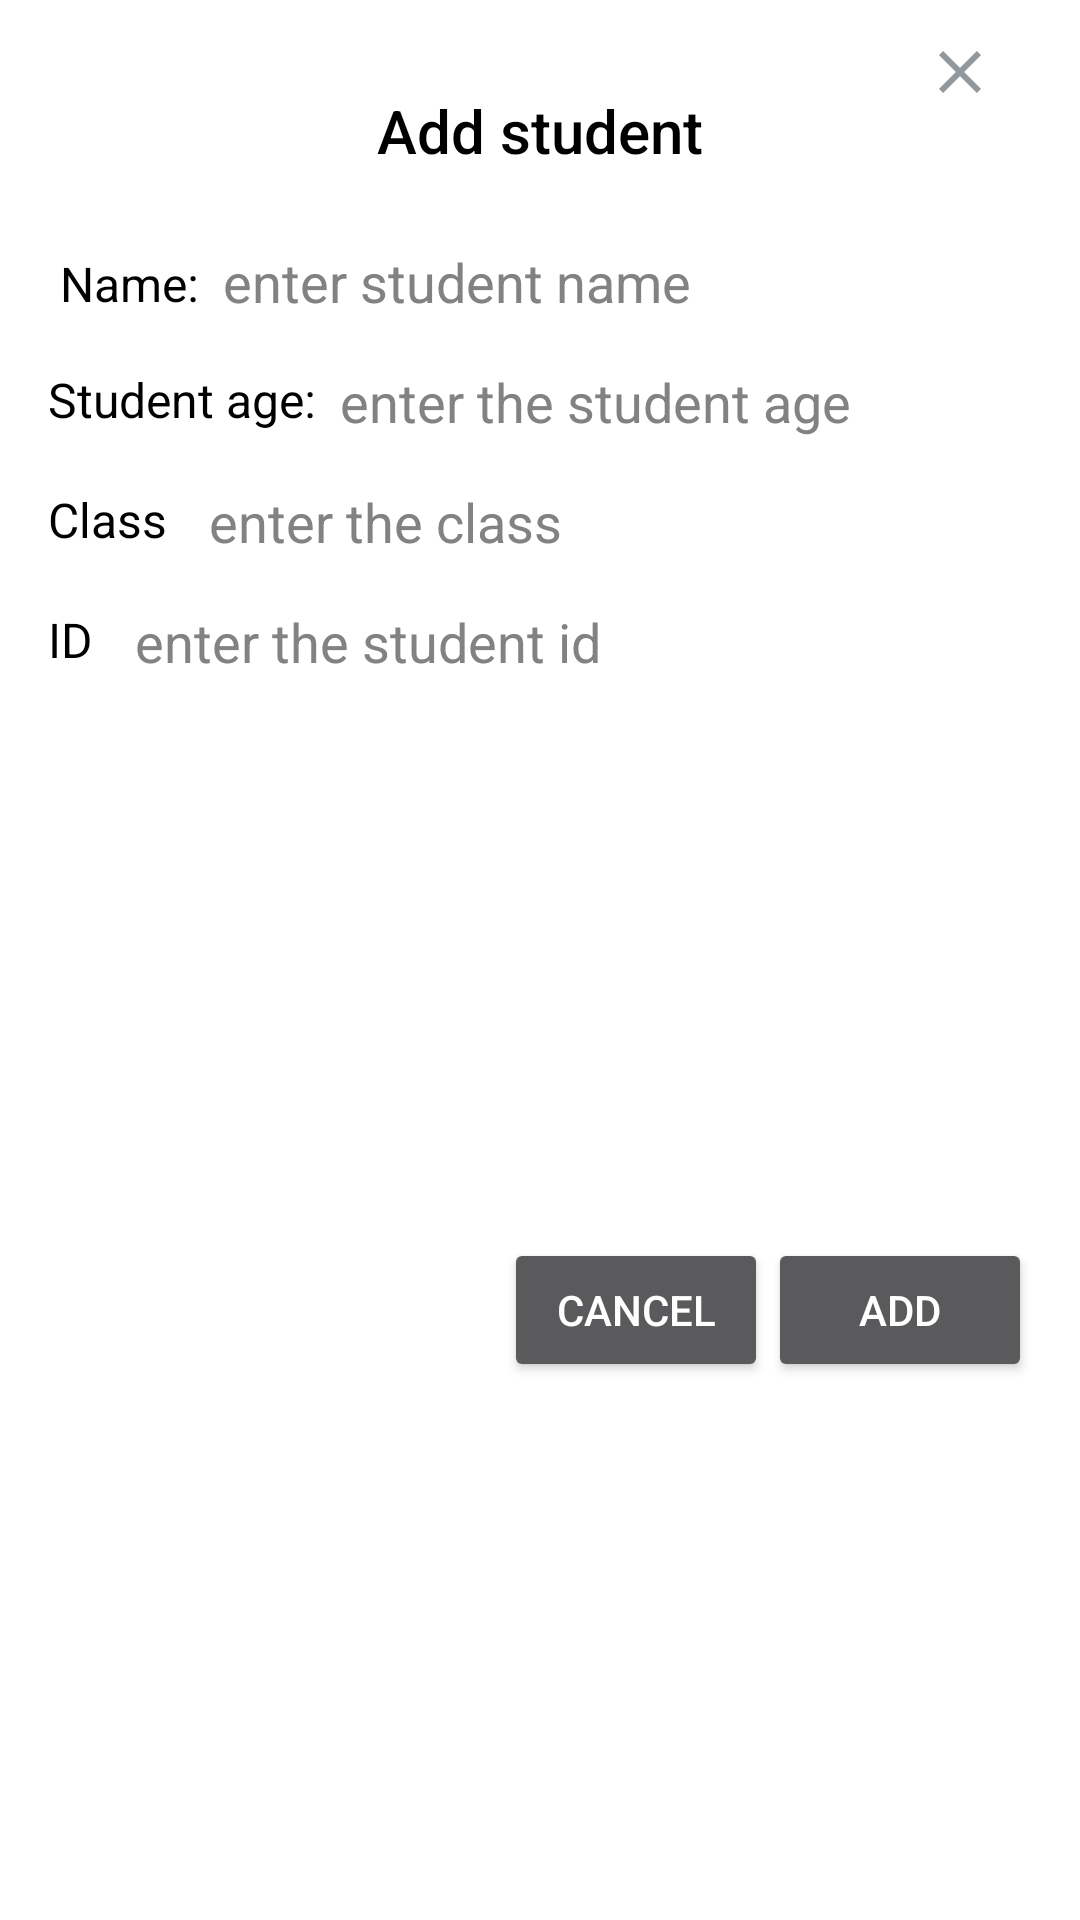

Where to tap for icons on this 1080×1920 app screen, as (x,y):
close: (960,72)
